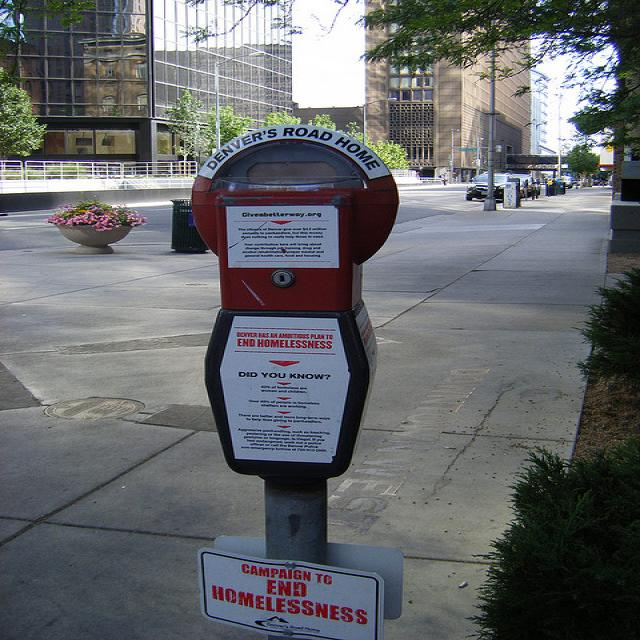Vehicle: (467, 172, 512, 200), (510, 174, 529, 198), (526, 174, 534, 198), (561, 176, 573, 188), (533, 181, 541, 196)
